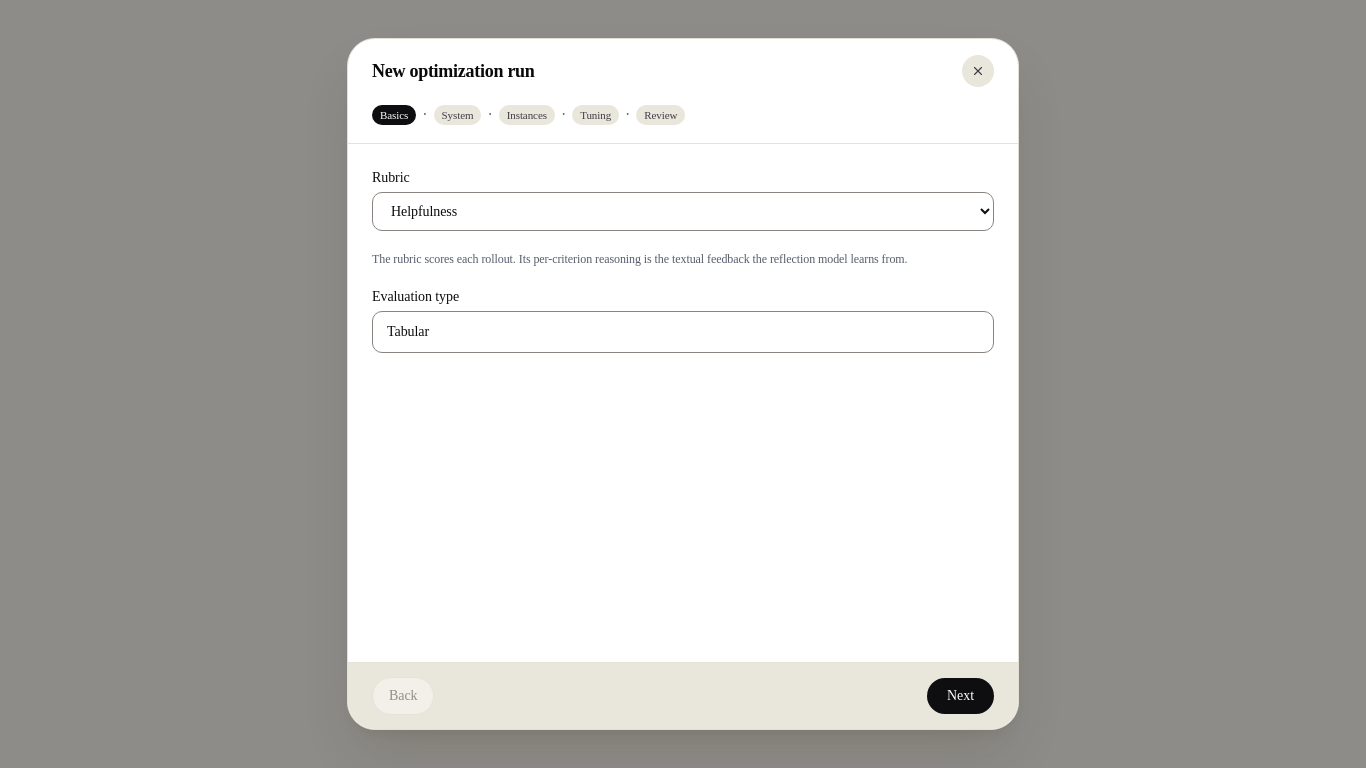
OptimizationWizard › shows the minimum-viable-budget hint next to the rollout budget field for a known instance count
Click the button "Next" at (961, 696), box [927,678,994,714]
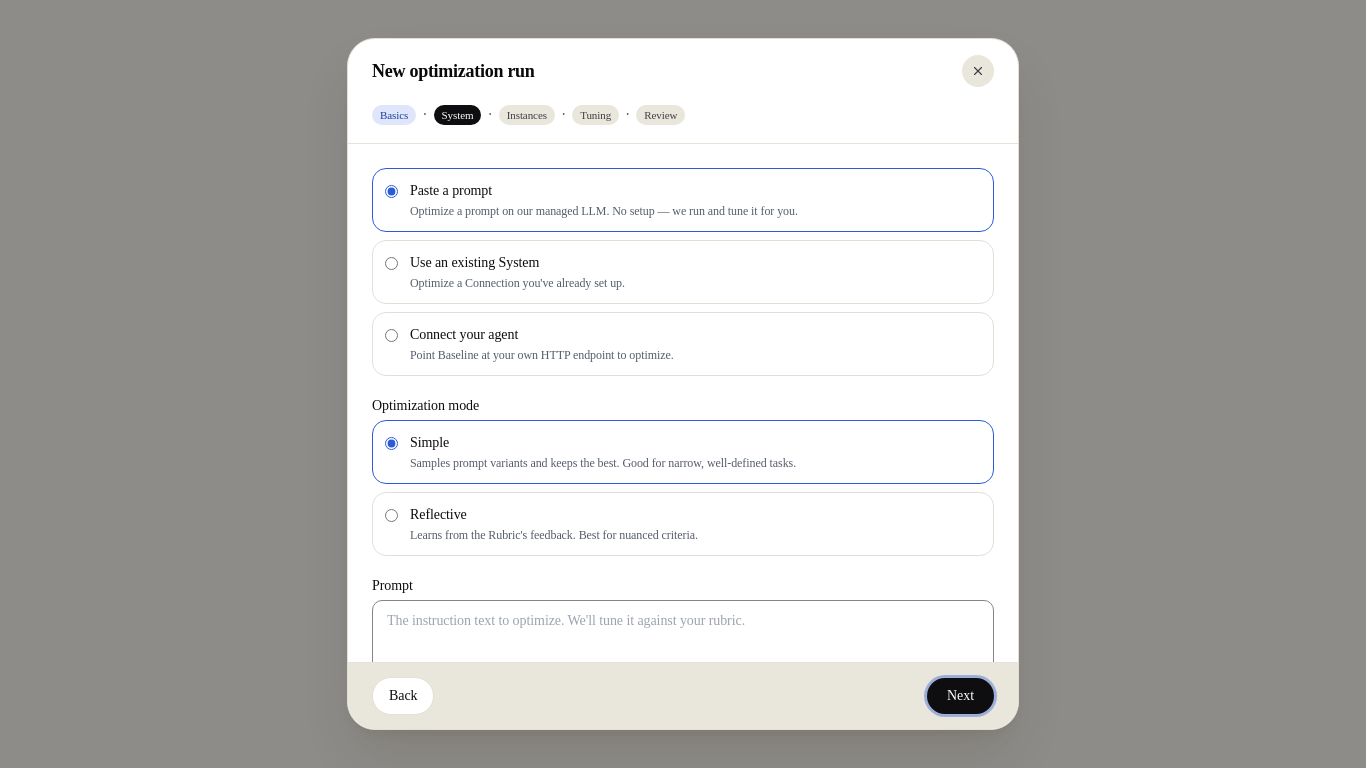
Click the radio button labelled "Use an existing System" at (392, 264), box [385,257,398,270]
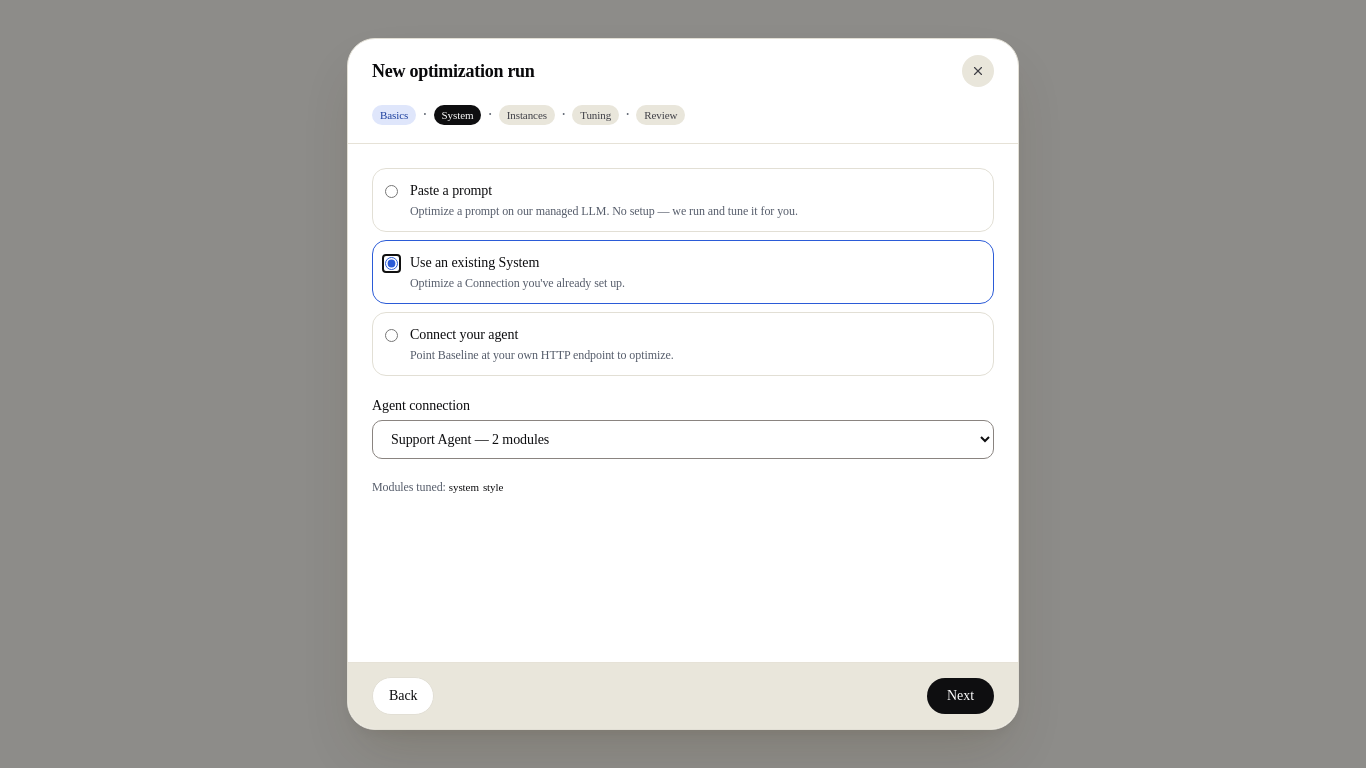
Click the button "Next" at (961, 696), box [927,678,994,714]
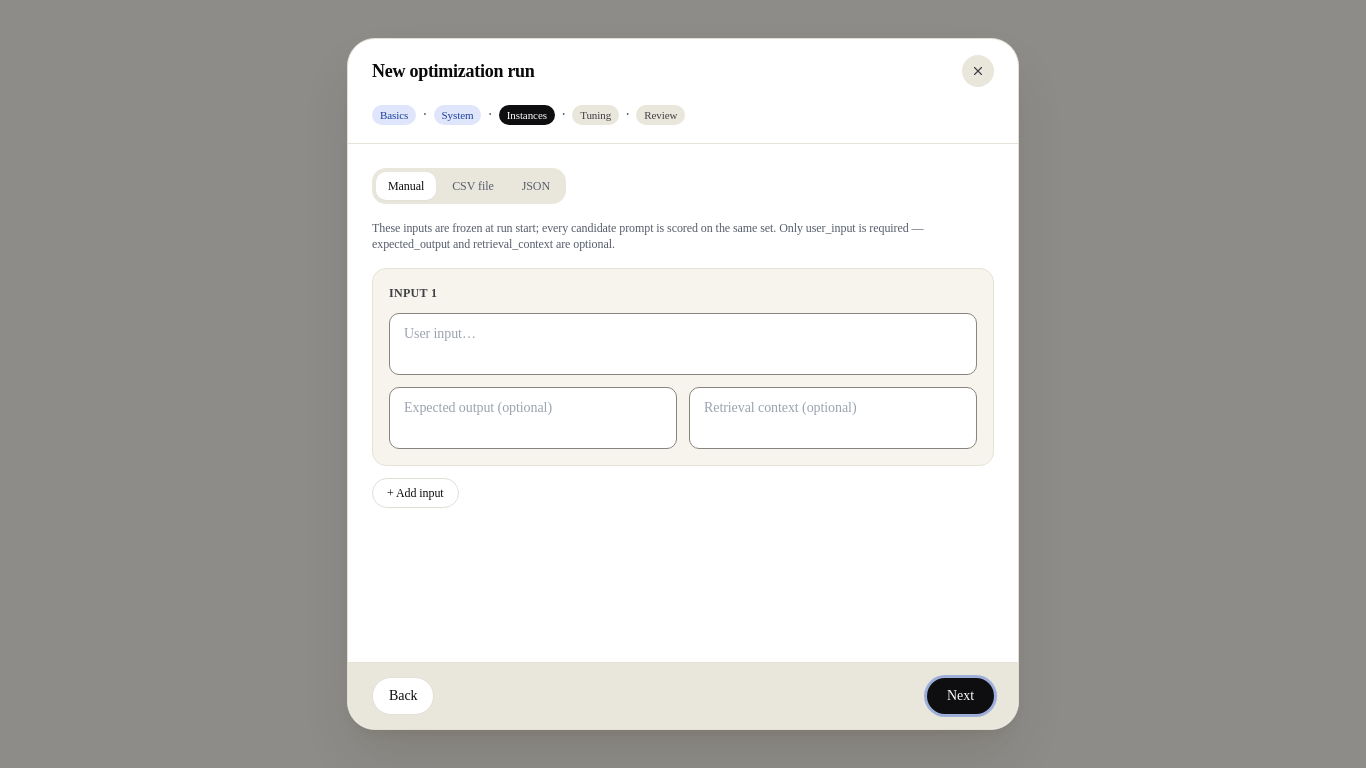
Type "How do I reset my password?" into the text box with placeholder "User input…" at (683, 344), box [389,313,977,375]
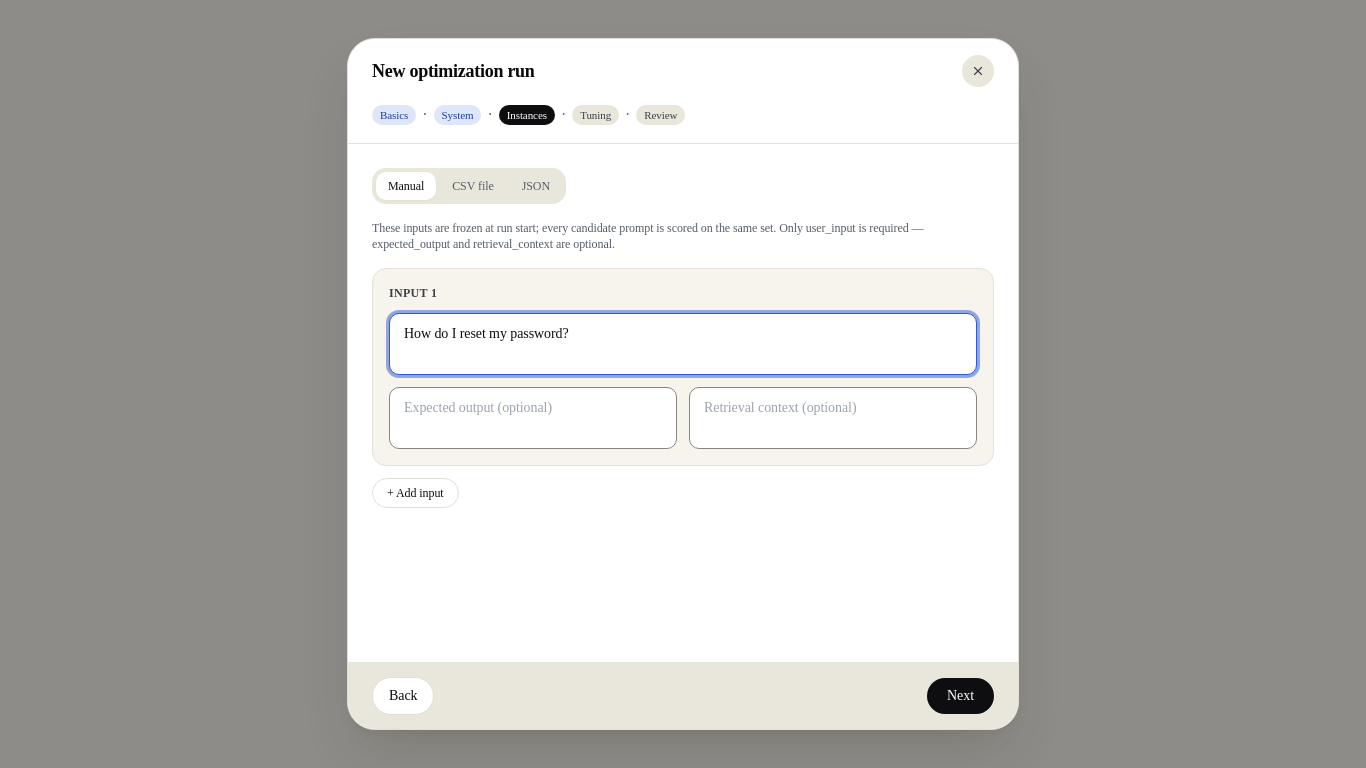
Click the button "Next" at (961, 696), box [927,678,994,714]
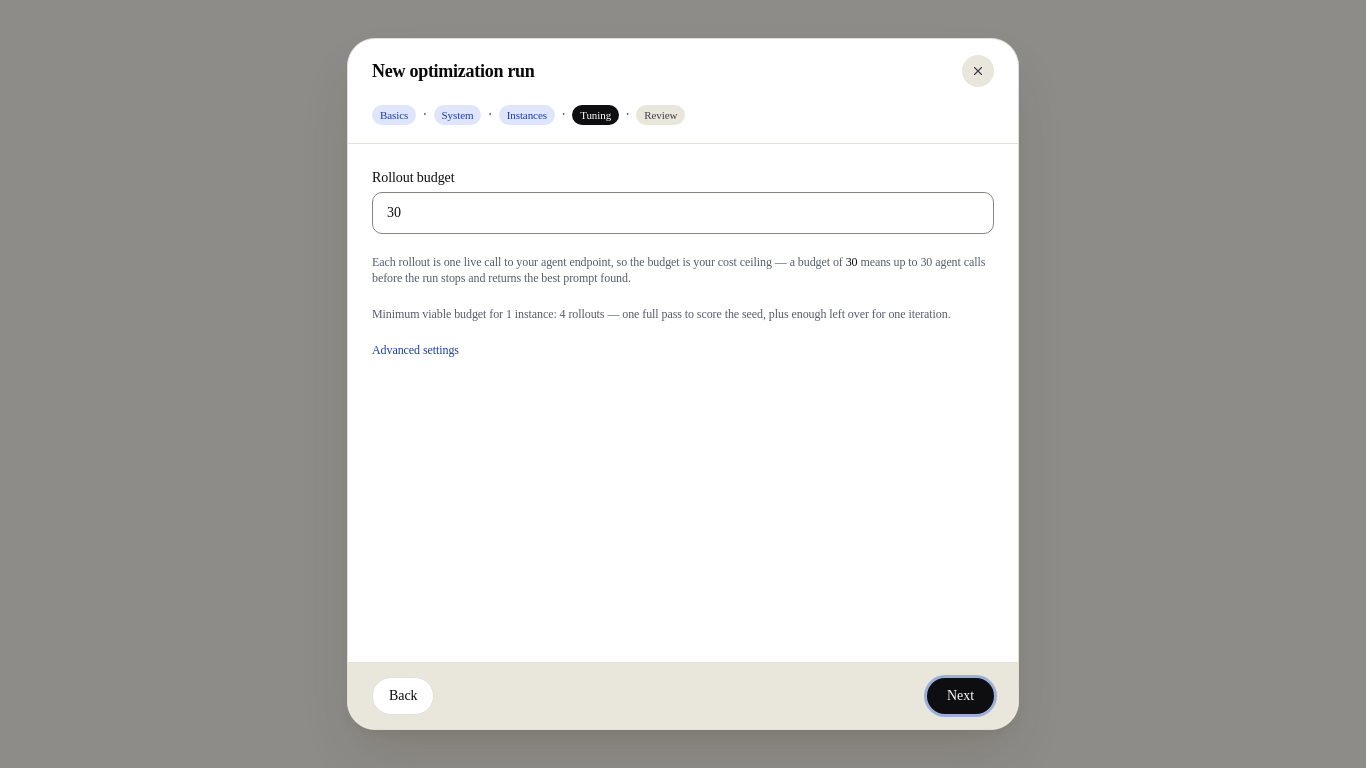
Expected: the text "Minimum viable budget for 1 instance: 4 rollouts — one full pass to score the seed, plus enough left over for one iterat" is shown, [372,307,951,321]
